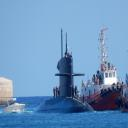submarine: (31, 28, 96, 115)
